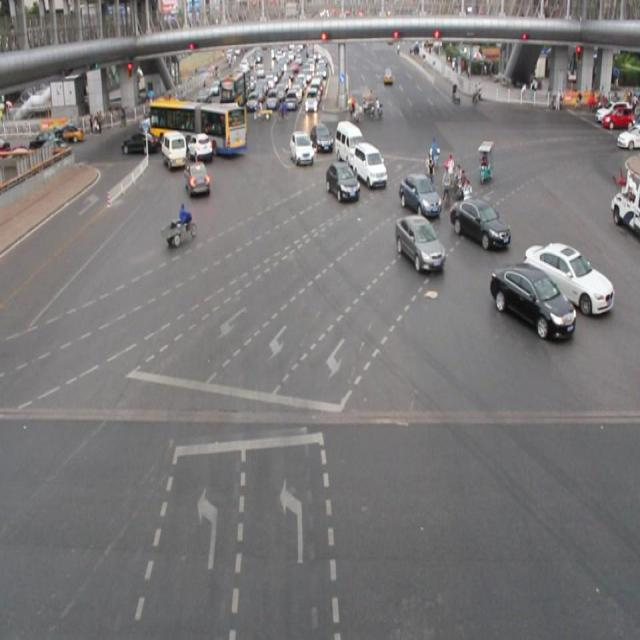car: (525, 239, 611, 312), (488, 266, 572, 338), (449, 197, 509, 251), (392, 216, 444, 276), (398, 172, 439, 216), (351, 142, 386, 186), (325, 162, 359, 203), (288, 132, 313, 168), (122, 132, 158, 155), (185, 163, 210, 196), (188, 131, 212, 162), (309, 124, 332, 151)
truck: (334, 119, 364, 165), (162, 130, 187, 168)
van: (149, 96, 247, 154)
